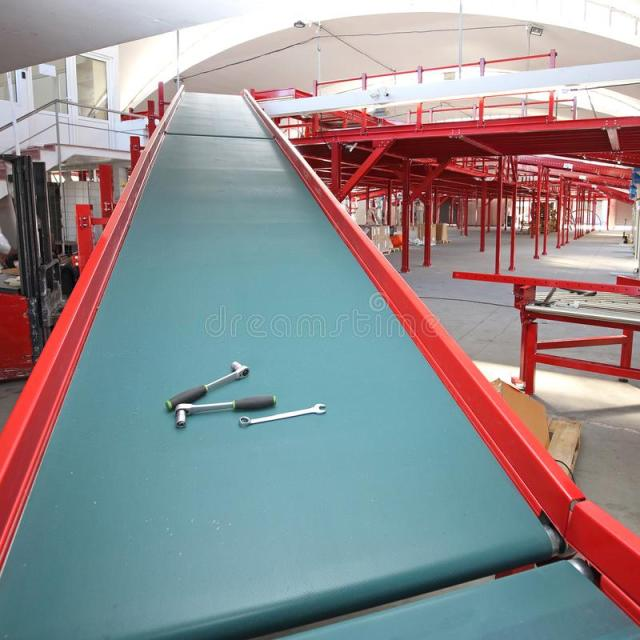conveyor: (23, 53, 638, 640)
